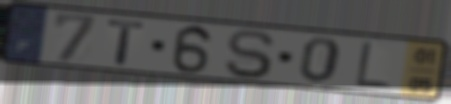0: (296, 36, 343, 85)
6: (172, 23, 216, 76)
7: (51, 10, 99, 65)
L: (353, 39, 392, 92)
S: (221, 28, 278, 80)
T: (105, 18, 149, 67)
